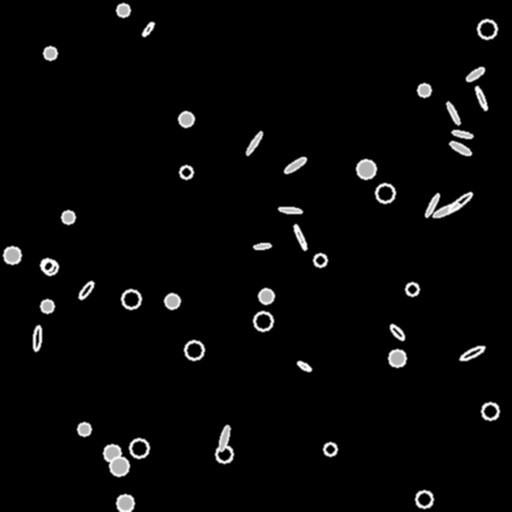pseudomonas: (446, 190, 474, 214), (432, 201, 460, 219), (458, 344, 486, 362), (283, 156, 307, 174), (245, 131, 263, 155), (292, 224, 308, 250), (449, 139, 471, 157), (217, 424, 231, 452), (424, 193, 440, 217), (445, 101, 461, 125), (474, 85, 488, 111), (77, 280, 95, 300), (388, 323, 406, 341), (465, 66, 485, 82), (141, 21, 155, 37), (452, 129, 472, 139), (33, 326, 41, 350), (296, 360, 312, 372), (278, 206, 302, 214), (253, 242, 271, 250)
synechocystis: (357, 160, 375, 178), (185, 341, 203, 359), (110, 457, 128, 475), (376, 184, 394, 202), (254, 312, 272, 330), (122, 290, 140, 308), (130, 439, 148, 457), (478, 20, 496, 38), (4, 247, 20, 263), (389, 350, 405, 366), (216, 446, 232, 462), (104, 445, 120, 461), (416, 491, 432, 507), (117, 495, 133, 511), (482, 403, 498, 419), (259, 289, 273, 303), (43, 260, 57, 274), (165, 294, 179, 308), (179, 112, 193, 126), (117, 4, 129, 16), (41, 259, 53, 271), (324, 443, 336, 455), (78, 423, 90, 435), (406, 283, 418, 295), (418, 84, 430, 96), (62, 211, 74, 223), (44, 47, 56, 59), (180, 166, 192, 178), (41, 300, 53, 312), (314, 254, 326, 266)
